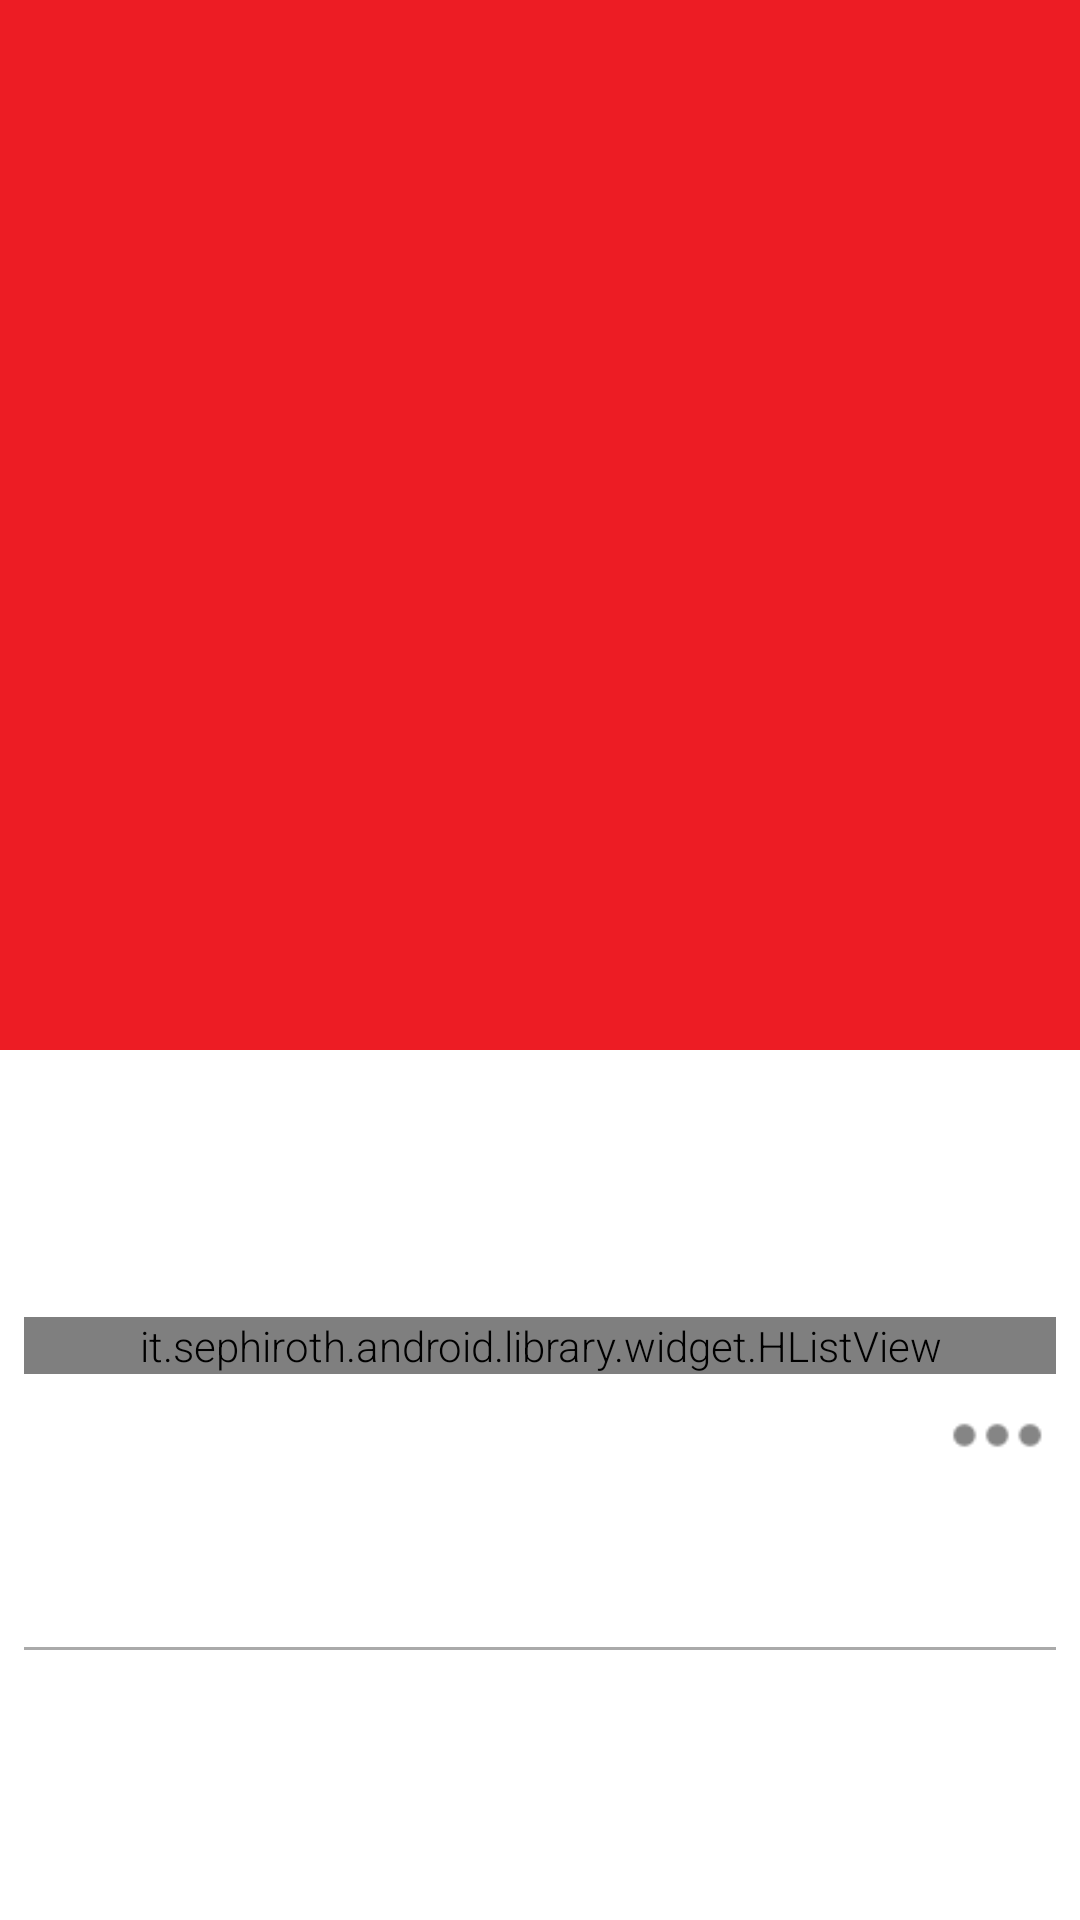

Icons on this 1080px×1920px Android screen, each with its box as region(x1, y1, x2, y2):
more: region(953, 1423, 1042, 1447)
